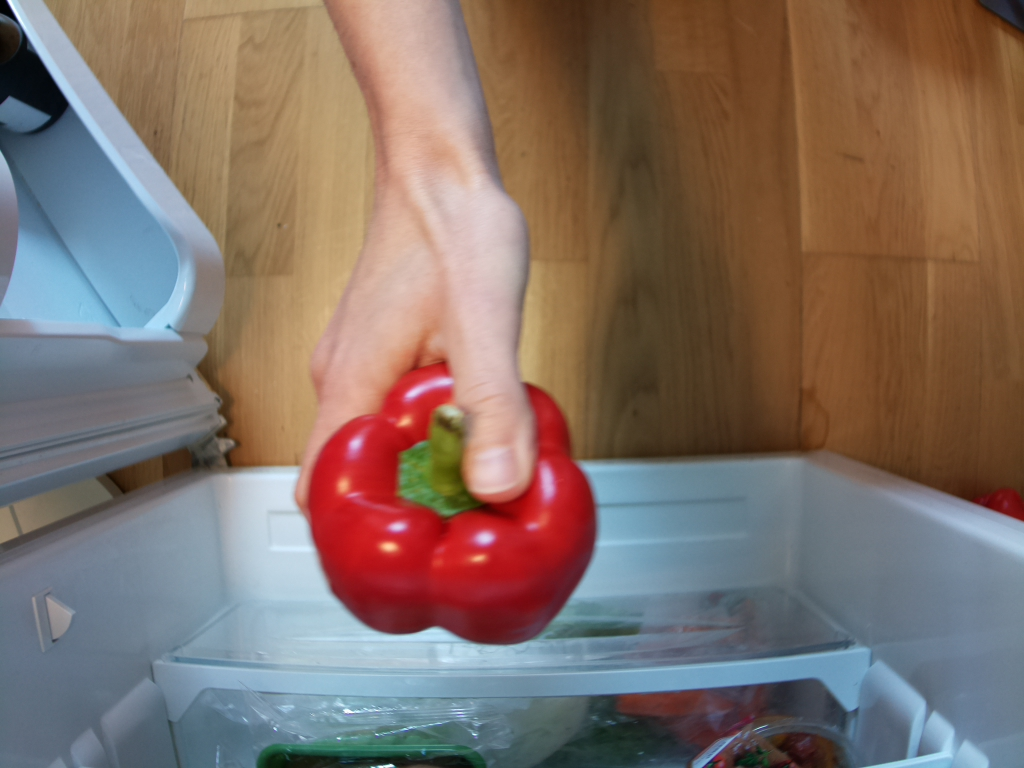pepper: (306, 364, 600, 648)
